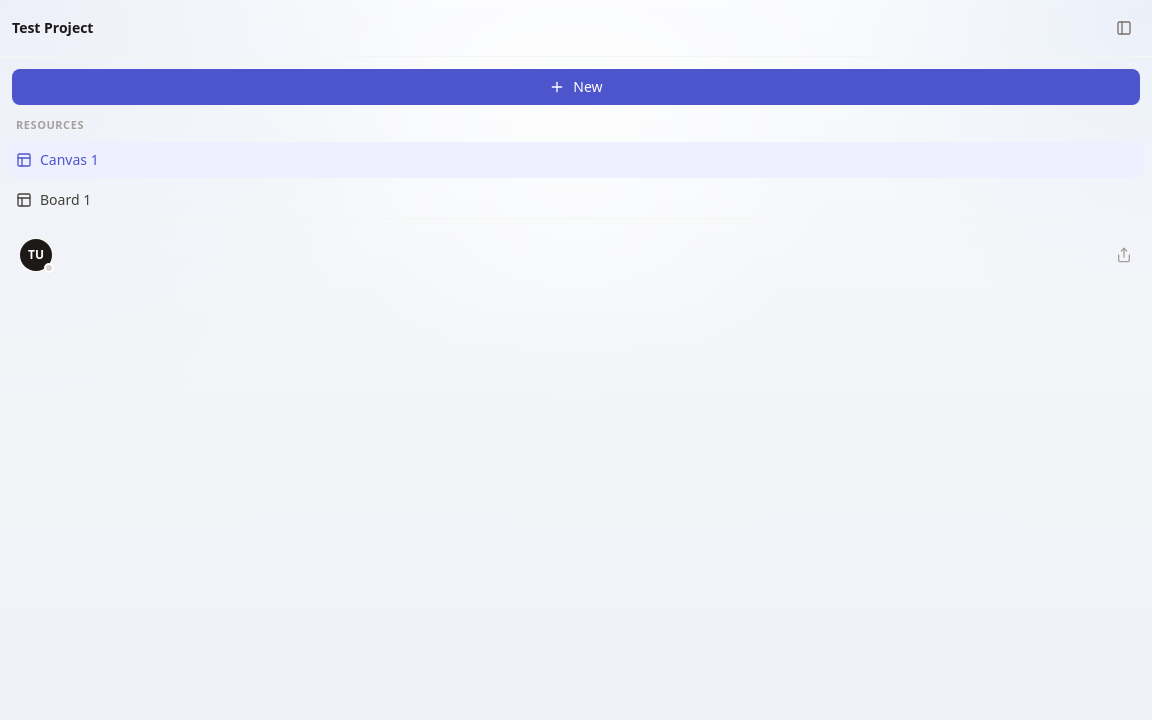
Test case: LeftSidebar › basic rendering › opens the new resource menu when New is clicked
Click the button with aria-label "Open new resource menu" at x=576, y=87, box top-left (12, 69), bottom-right (1140, 105)
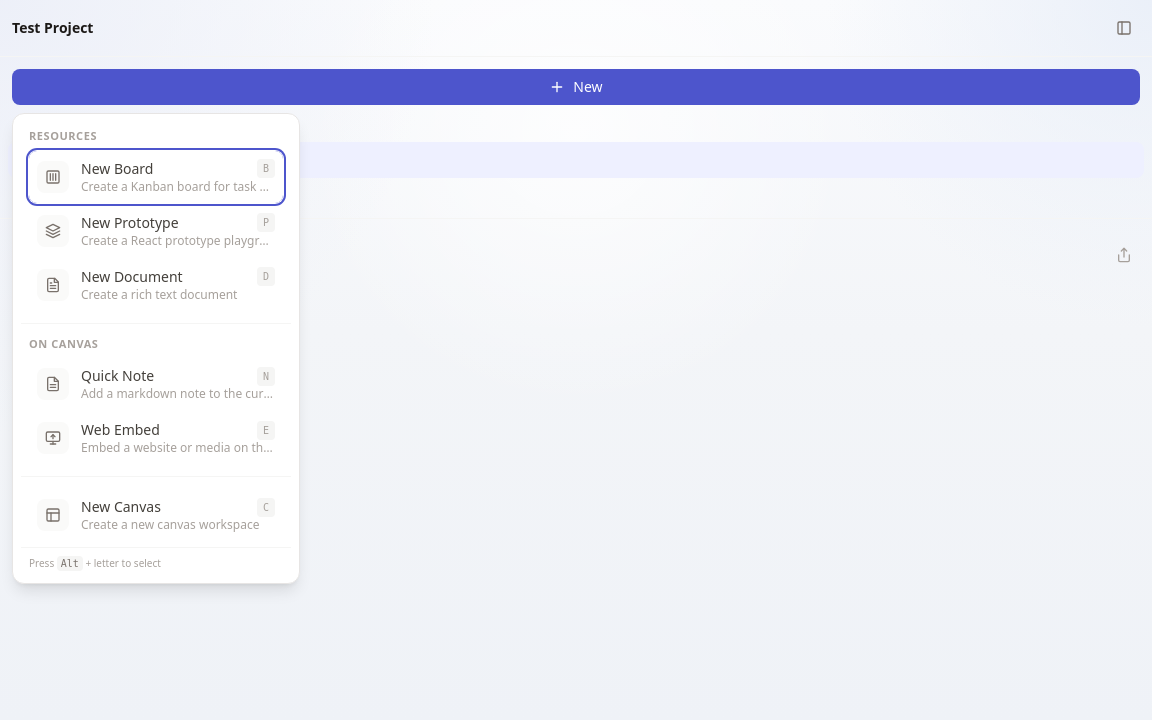
Now the menu named "Create new resource" is shown, box top-left (12, 113), bottom-right (300, 584)
Now the text "New Board" is shown, box top-left (81, 158), bottom-right (153, 178)
